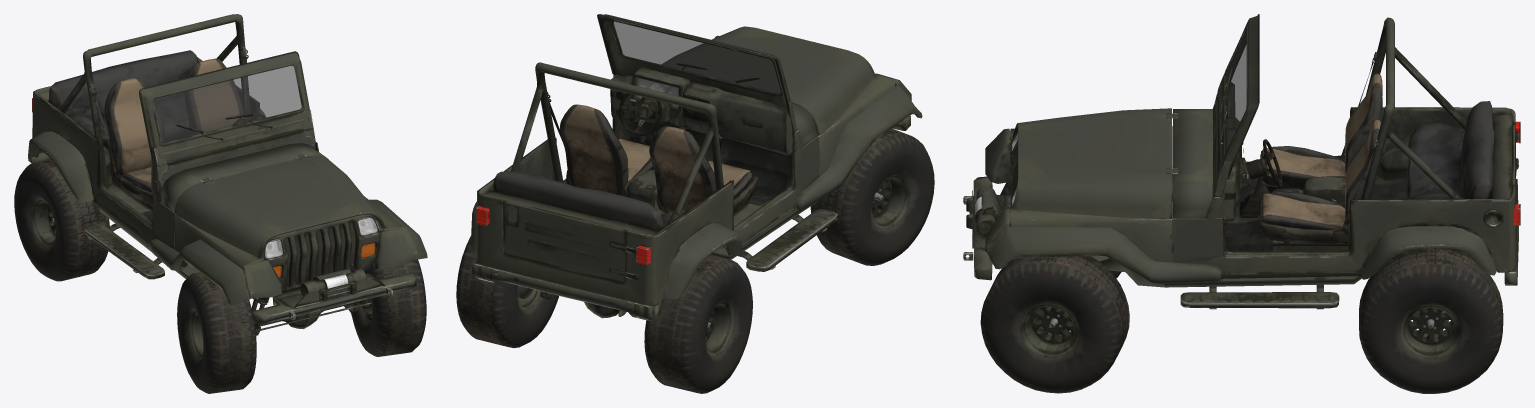
The model's file is sk-jeep.glb.
3 views of the same model, side by side, from view 1: azimuth 30°, elevation 25°; view 2: azimuth 150°, elevation 25°; view 3: azimuth 270°, elevation 25° (orthographic). The views are drawn at different scales.
Visible parts, largest first — view 1: 1_low_Plane.077_Base_0, glass_Cube.026_GLASS_0; view 2: 1_low_Plane.077_Base_0, glass_Cube.026_GLASS_0; view 3: 1_low_Plane.077_Base_0, glass_Cube.026_GLASS_0.
Part boxes in pixels (x1,y1,x2,y2): 1_low_Plane.077_Base_0: [14, 14, 427, 393]; glass_Cube.026_GLASS_0: [153, 65, 377, 277]; 1_low_Plane.077_Base_0: [456, 14, 934, 393]; glass_Cube.026_GLASS_0: [613, 21, 780, 107]; 1_low_Plane.077_Base_0: [963, 14, 1520, 393]; glass_Cube.026_GLASS_0: [1014, 29, 1246, 199].
Bounding box in the file's own units: 237 × 236 × 426.
2 materials, 2 textured.
